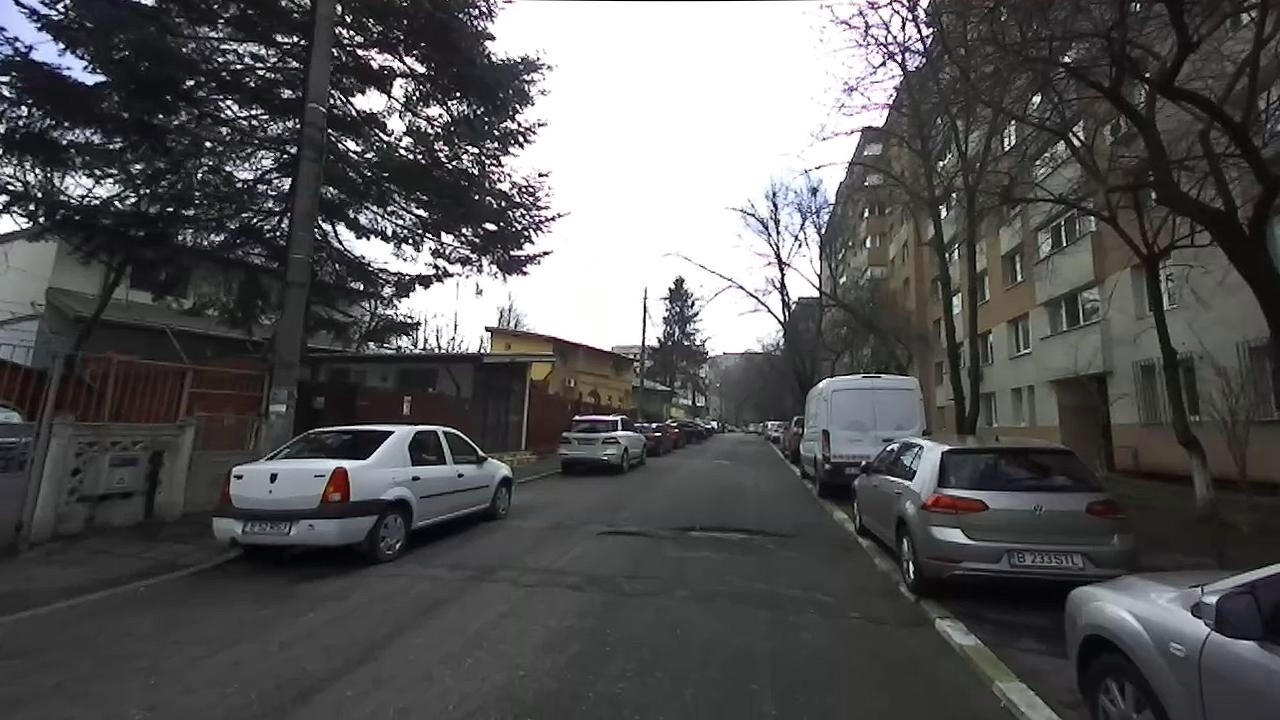pothole: (668, 524, 795, 544), (593, 526, 656, 539)
